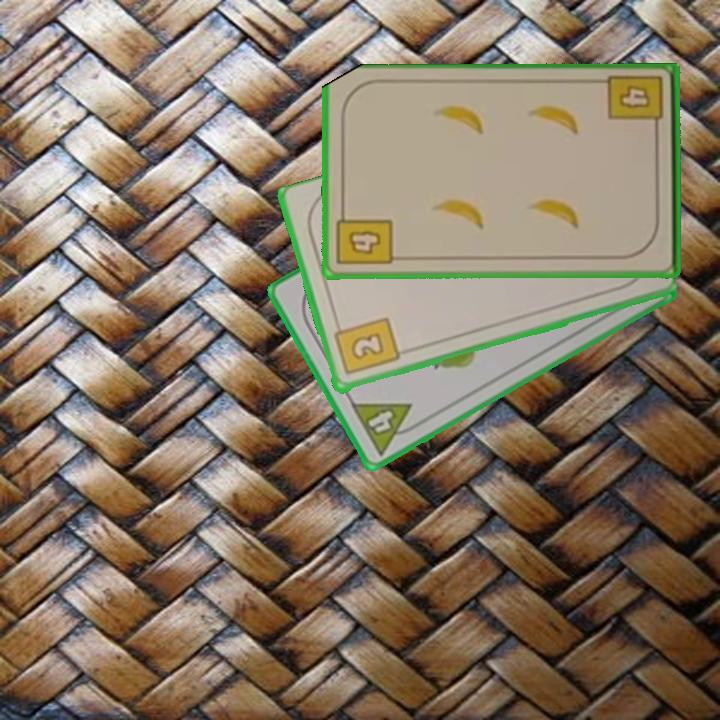2b: (330, 314, 402, 379)
4b: (605, 73, 666, 138), (334, 206, 395, 268)
4p: (347, 399, 425, 459)
